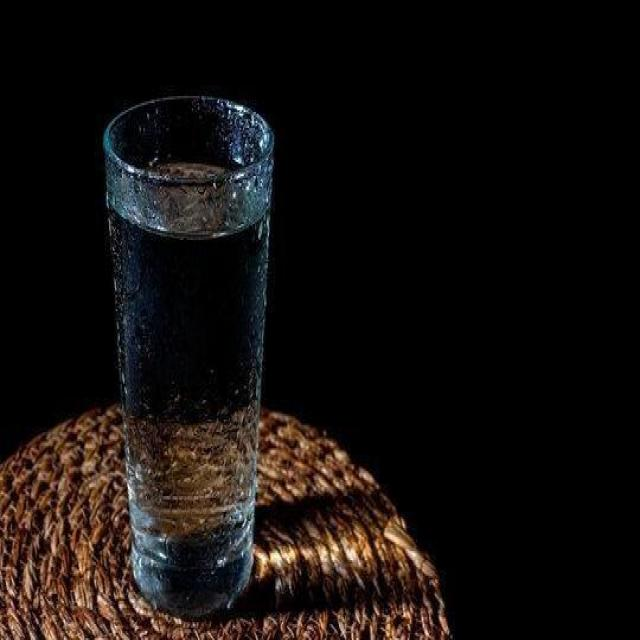glass-normal: (102, 92, 276, 620)
